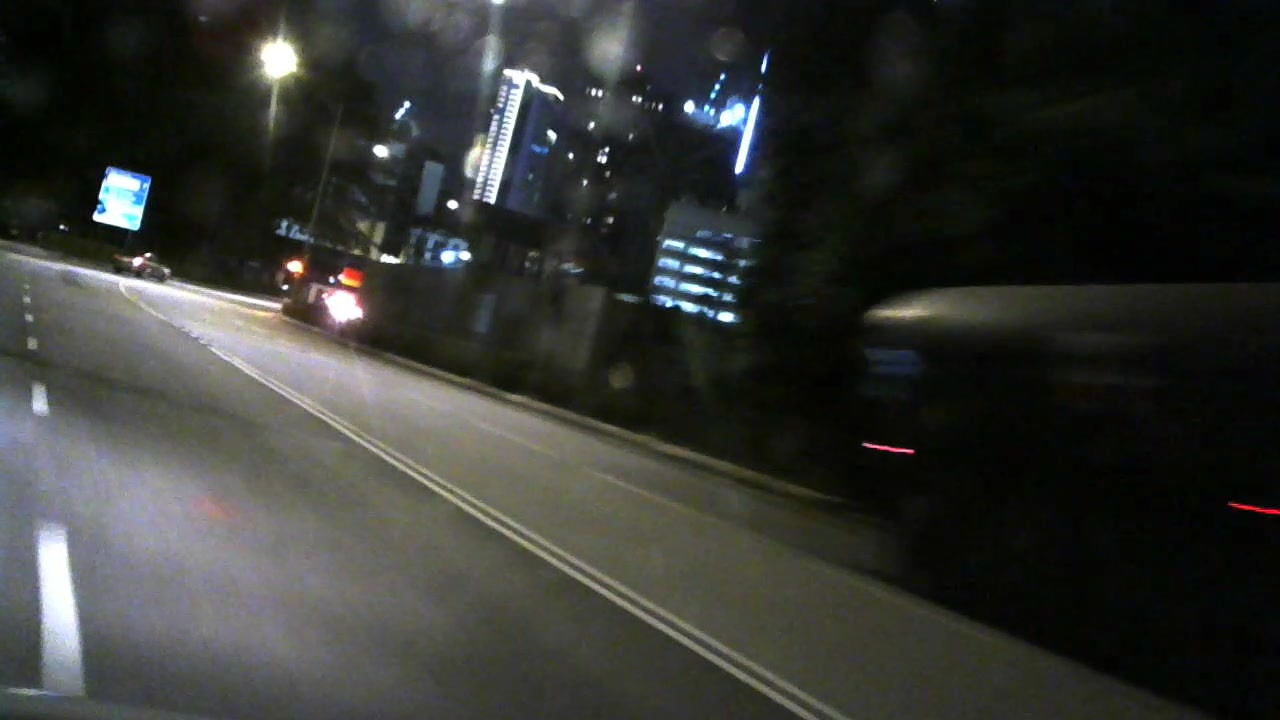Car: (114, 251, 179, 284)
